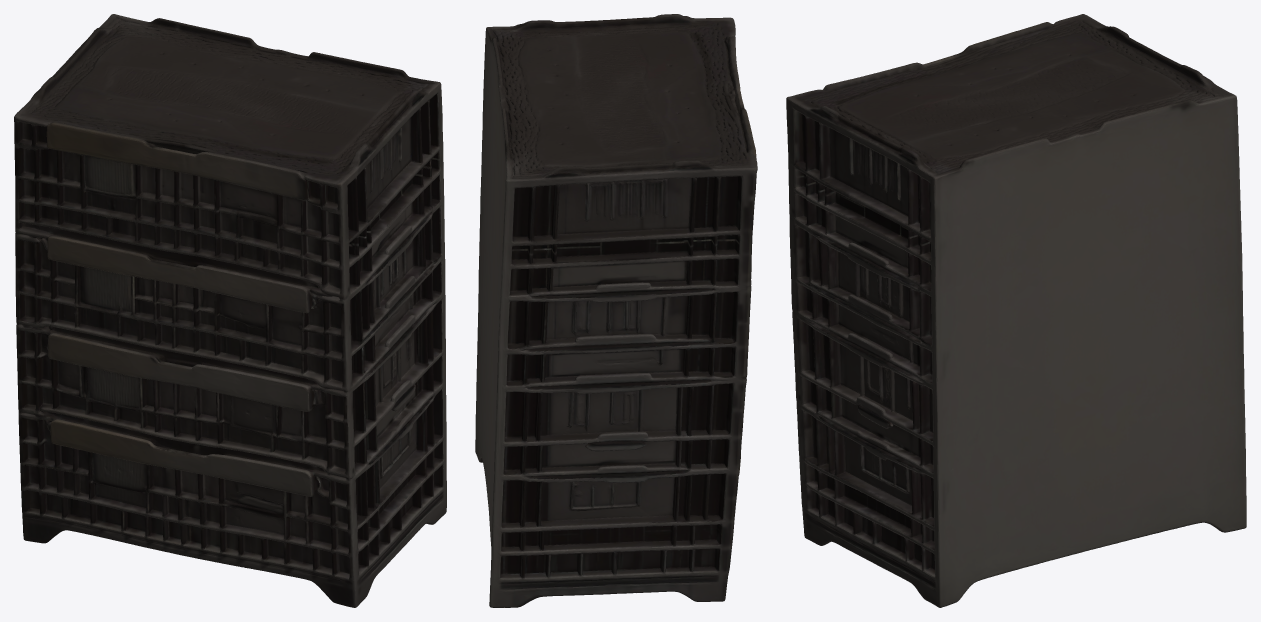
The model's file is Plasticbox_2.glb.
3 renders of one model, left to right at view 1: azimuth 30°, elevation 25°; view 2: azimuth 150°, elevation 25°; view 3: azimuth 270°, elevation 25°, orthographic.
Size of the model in its own units: 1.67 by 2 by 1.89.
Materials: 1 (1 with a texture image).
